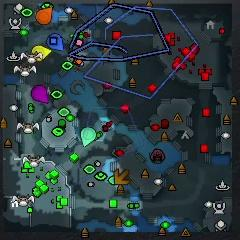p1: (46, 34, 64, 53)
p2: (81, 127, 96, 147)
p3: (32, 85, 49, 103)
p4: (31, 46, 51, 62)
p5: (36, 7, 53, 26)
x5: (114, 168, 130, 185)
